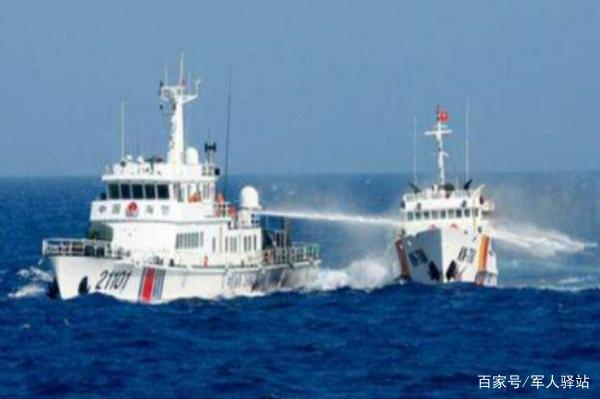warship: (53, 57, 345, 297), (382, 104, 505, 282)
